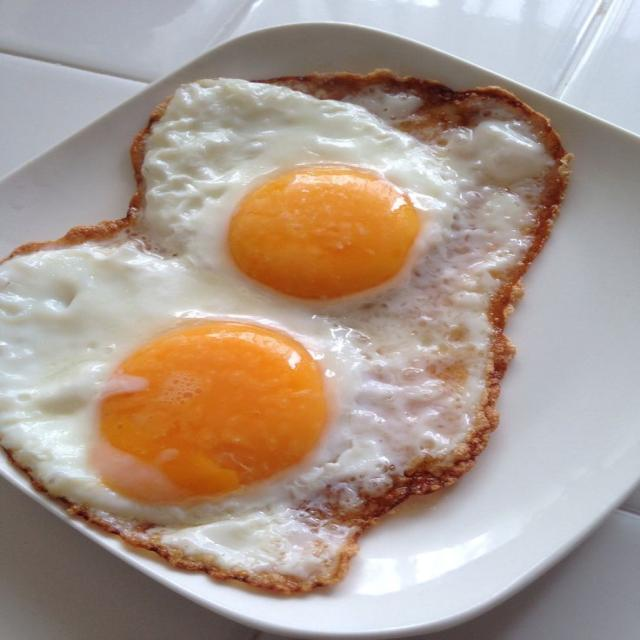fryed egg: (0, 80, 553, 590)
